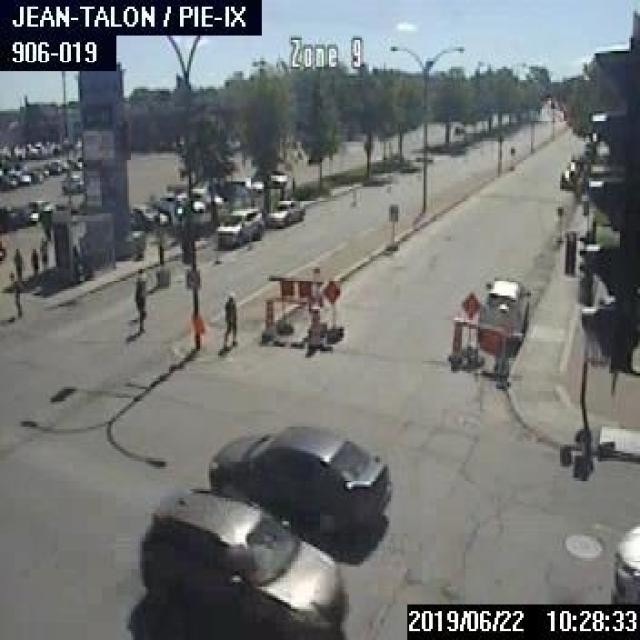construction: (265, 266, 342, 342), (453, 290, 510, 377), (307, 306, 321, 349), (446, 321, 459, 364), (260, 299, 273, 340)
pedestrian: (7, 269, 24, 320), (222, 291, 236, 349), (132, 275, 144, 331), (13, 247, 22, 280), (29, 247, 38, 278), (38, 236, 46, 269)
vehicle: (135, 486, 345, 638), (210, 423, 392, 537), (476, 273, 533, 329), (606, 524, 638, 602), (215, 206, 262, 247), (264, 196, 304, 224), (158, 192, 203, 216), (176, 186, 222, 206), (131, 205, 168, 227), (252, 167, 286, 184), (558, 166, 580, 190), (234, 175, 262, 193), (58, 174, 82, 192), (7, 168, 30, 182), (29, 199, 52, 213), (0, 174, 16, 185)
